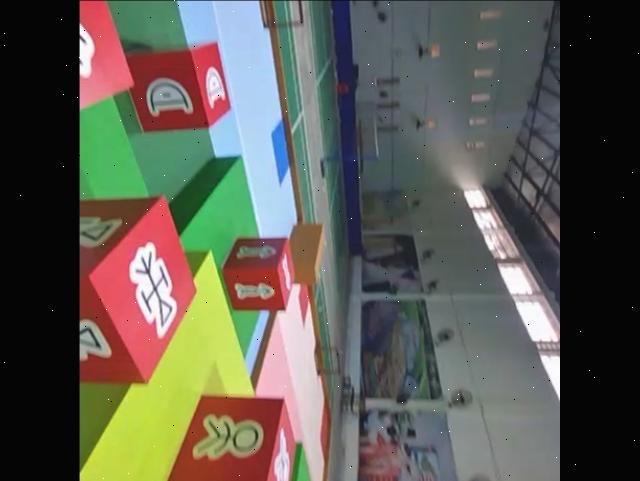R2 Real: (80, 195, 199, 384), (167, 395, 292, 481), (126, 41, 231, 128), (221, 237, 294, 309)
